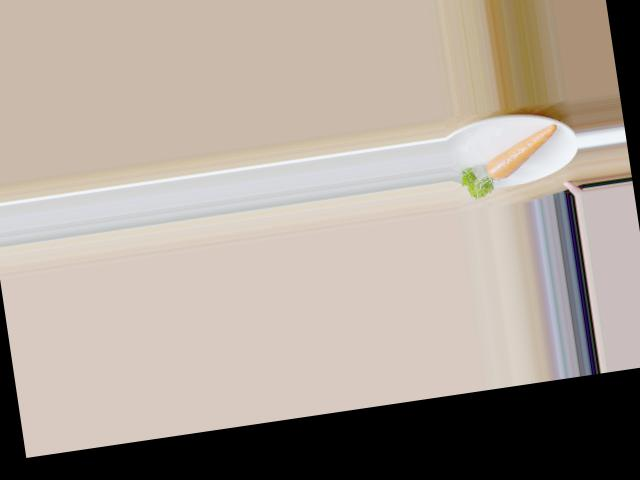carrot: (473, 122, 567, 186)
